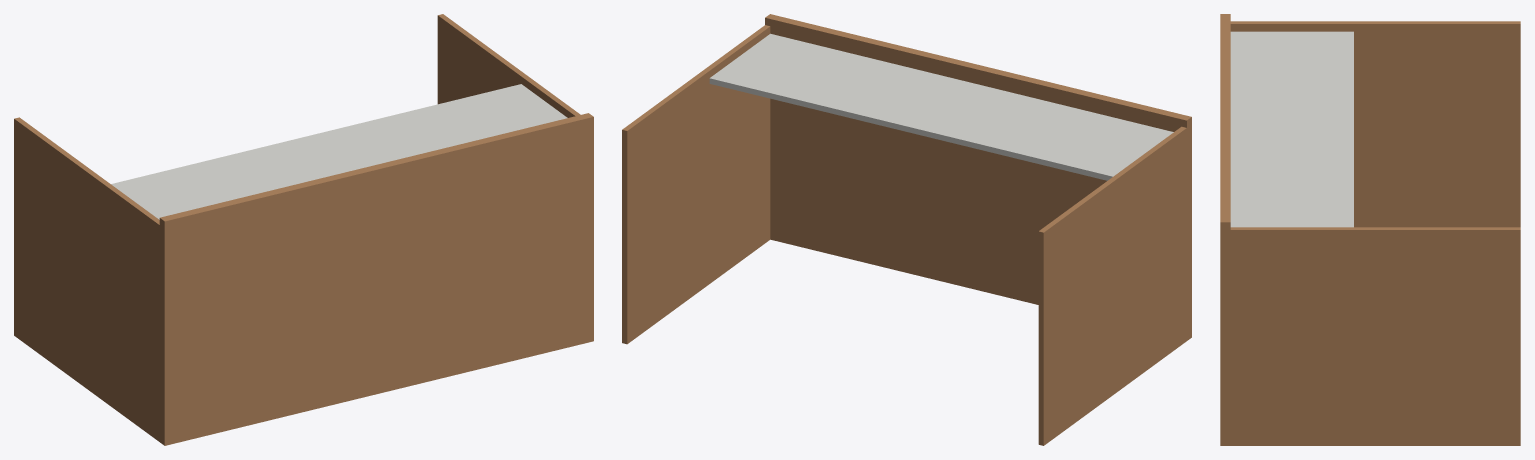
The model's file is M07_desk.obj.
The picture shows the model from 3 angles, left to right: view 1: azimuth 30°, elevation 25°; view 2: azimuth 150°, elevation 25°; view 3: azimuth 270°, elevation 25°; orthographic projection.
Visible parts, largest first — view 1: M07_desk_Tampo, M07_desk_Lateral_Esquerda, M07_desk_Painel_Frontal__saia_, M07_desk_Lateral_Direita; view 2: M07_desk_Tampo, M07_desk_Lateral_Esquerda, M07_desk_Lateral_Direita, M07_desk_Painel_Frontal__saia_; view 3: M07_desk_Lateral_Direita, M07_desk_Lateral_Esquerda, M07_desk_Painel_Frontal__saia_, M07_desk_Tampo.
Boxes of the visible parts, x1,y1,x2,y2 form: M07_desk_Tampo: (159,113,593,445); M07_desk_Lateral_Esquerda: (14,117,159,441); M07_desk_Painel_Frontal__saia_: (111,84,567,219); M07_desk_Lateral_Direita: (437,14,580,117); M07_desk_Tampo: (765,14,1191,340); M07_desk_Lateral_Esquerda: (1038,126,1186,445); M07_desk_Lateral_Direita: (622,25,770,344); M07_desk_Painel_Frontal__saia_: (709,33,1173,180); M07_desk_Lateral_Direita: (1230,227,1520,445); M07_desk_Lateral_Esquerda: (1230,21,1520,227); M07_desk_Painel_Frontal__saia_: (1230,31,1353,227); M07_desk_Tampo: (1220,14,1230,445).
Bounding box in the file's own units: 1200 × 600 × 730.
